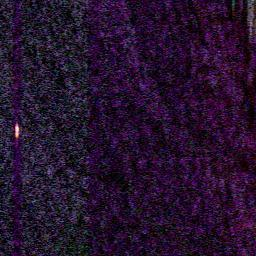Ship: (12, 122, 23, 139)
